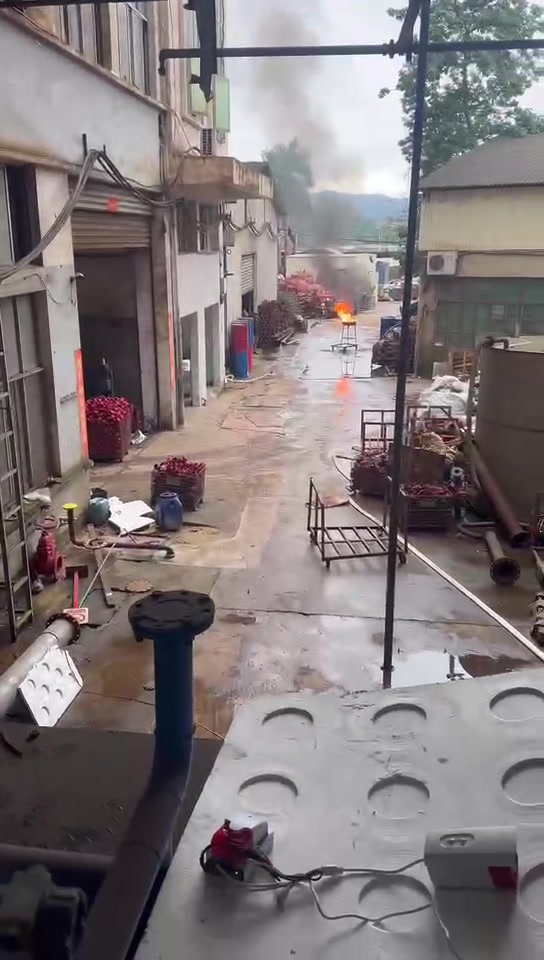fire: (335, 302, 351, 320)
